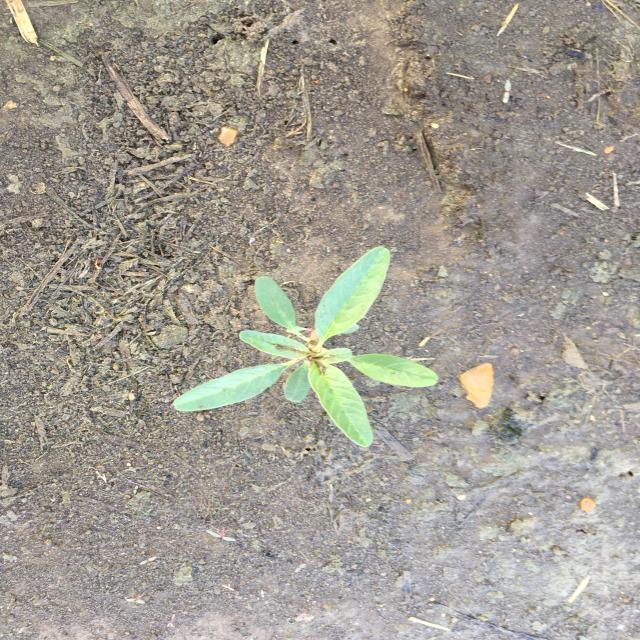Waterhemp: (170, 244, 442, 449)
